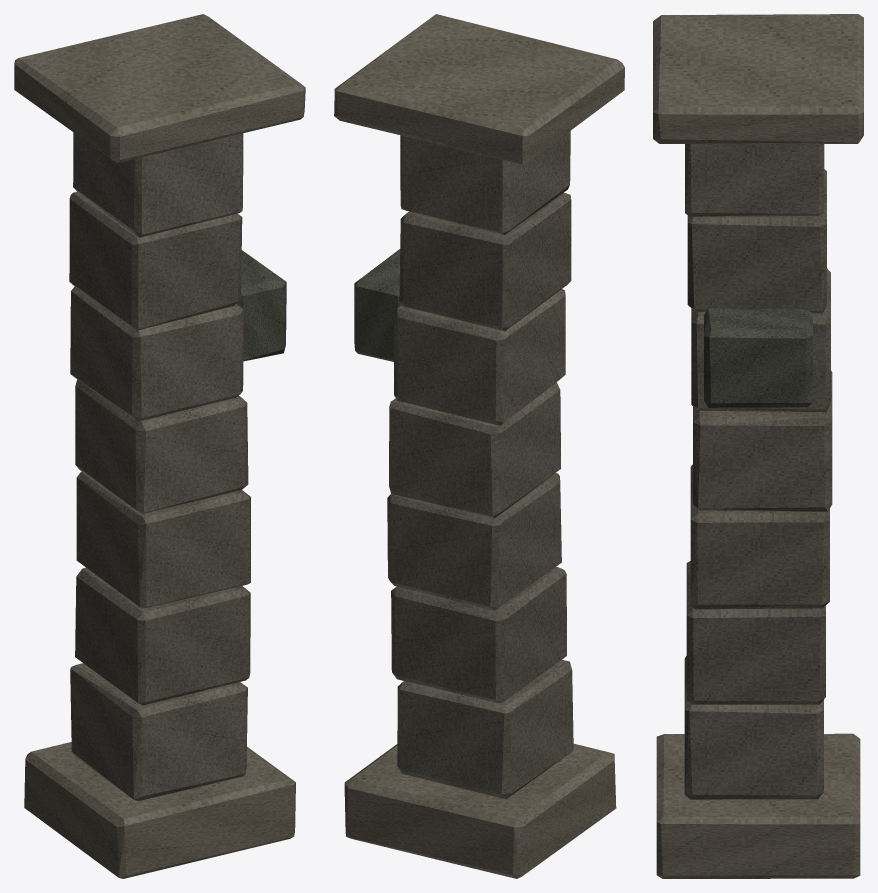
Rendered from env_ruin_pillars_13_gatepost_right.glb.
The picture shows the model from 3 angles, left to right: view 1: azimuth 30°, elevation 25°; view 2: azimuth 150°, elevation 25°; view 3: azimuth 270°, elevation 25°; orthographic projection. The views are drawn at different scales.
Bounding box in the file's own units: 0.7 × 2.52 × 0.62.
Materials: 1 (1 with a texture image).
